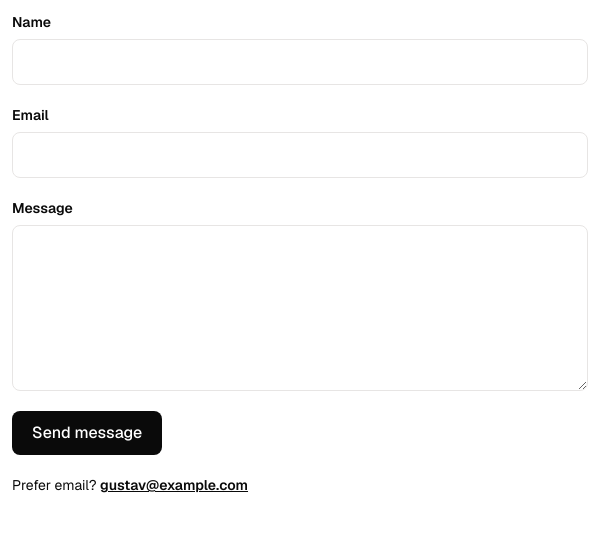
Test case: ContactForm › shows the inline error and mailto reminder when the server rejects
The image size is (608, 551).
Step 1. Type "Ada Lovelace" into the field labelled "Name" → [300, 62], box [12,39,588,85]
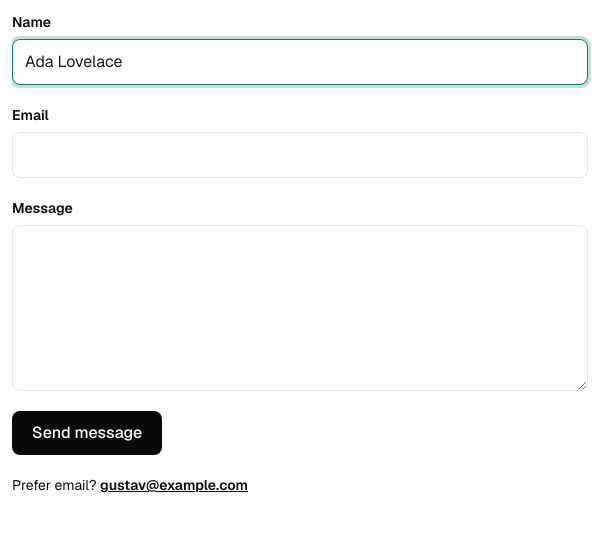
Step 2. Type "ada@example.com" into the field labelled "Email" → [300, 155], box [12,132,588,178]
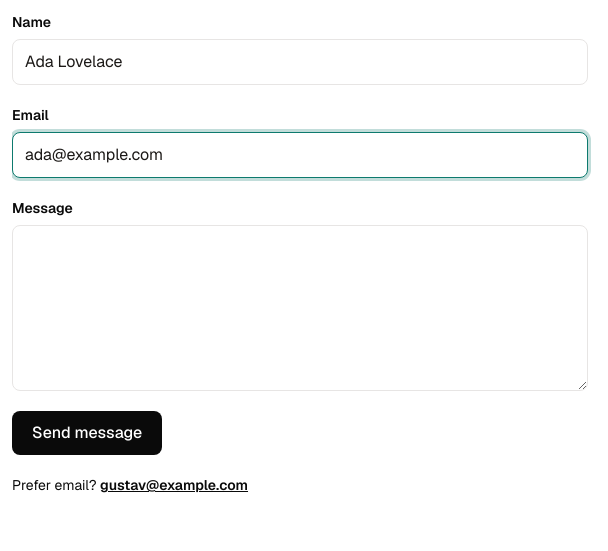
Step 3. Type "I need a new website." into the text box labelled "Message" → [300, 308], box [12,225,588,391]
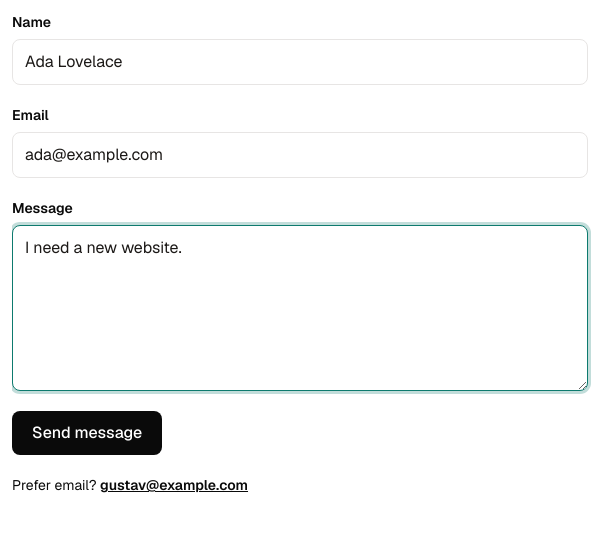
Step 4. Click the button "Send message" → [87, 433], box [12,411,162,455]
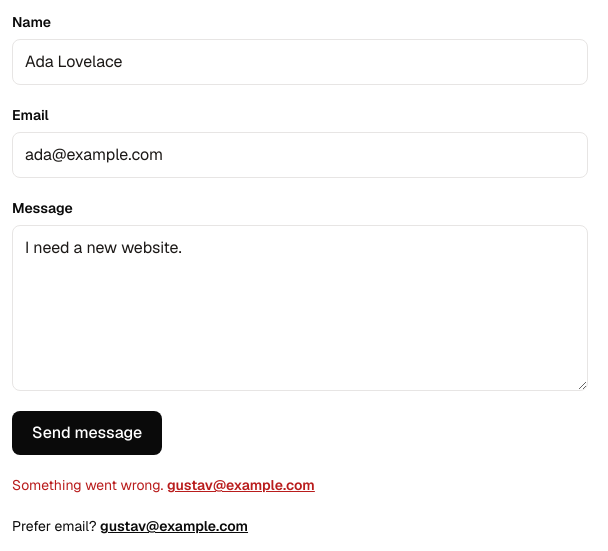
expect the message shows "Something went wrong.": met, box [12,476,163,494]
